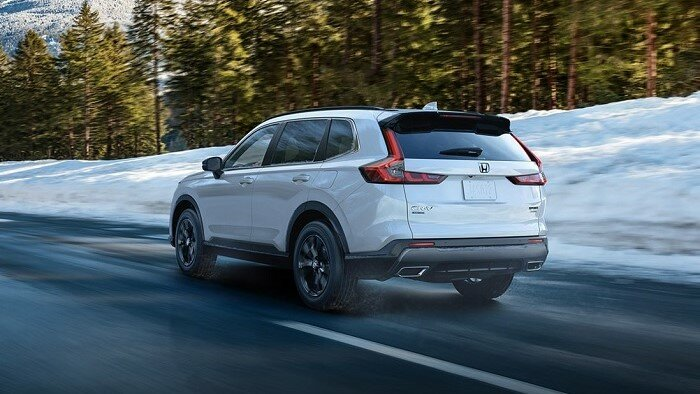car: (165, 100, 553, 317)
